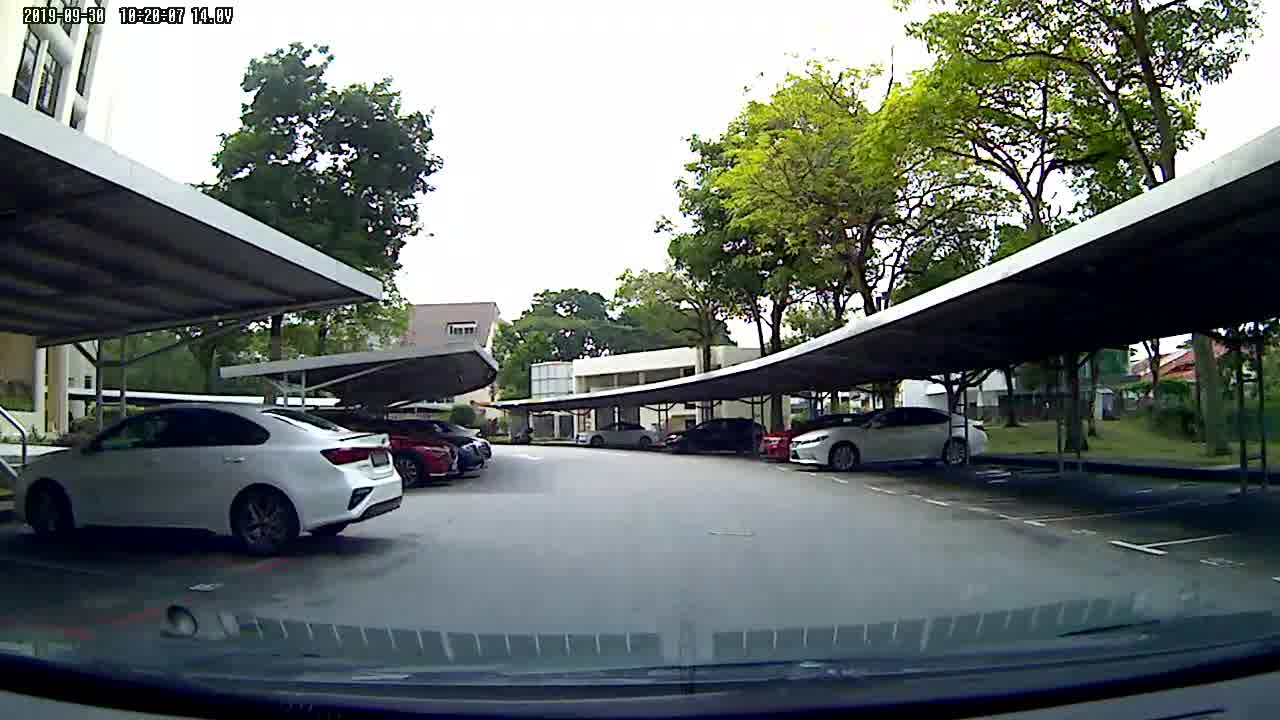car: (16, 400, 409, 549), (786, 405, 989, 475), (394, 408, 495, 488), (659, 414, 766, 466), (568, 420, 660, 452)
